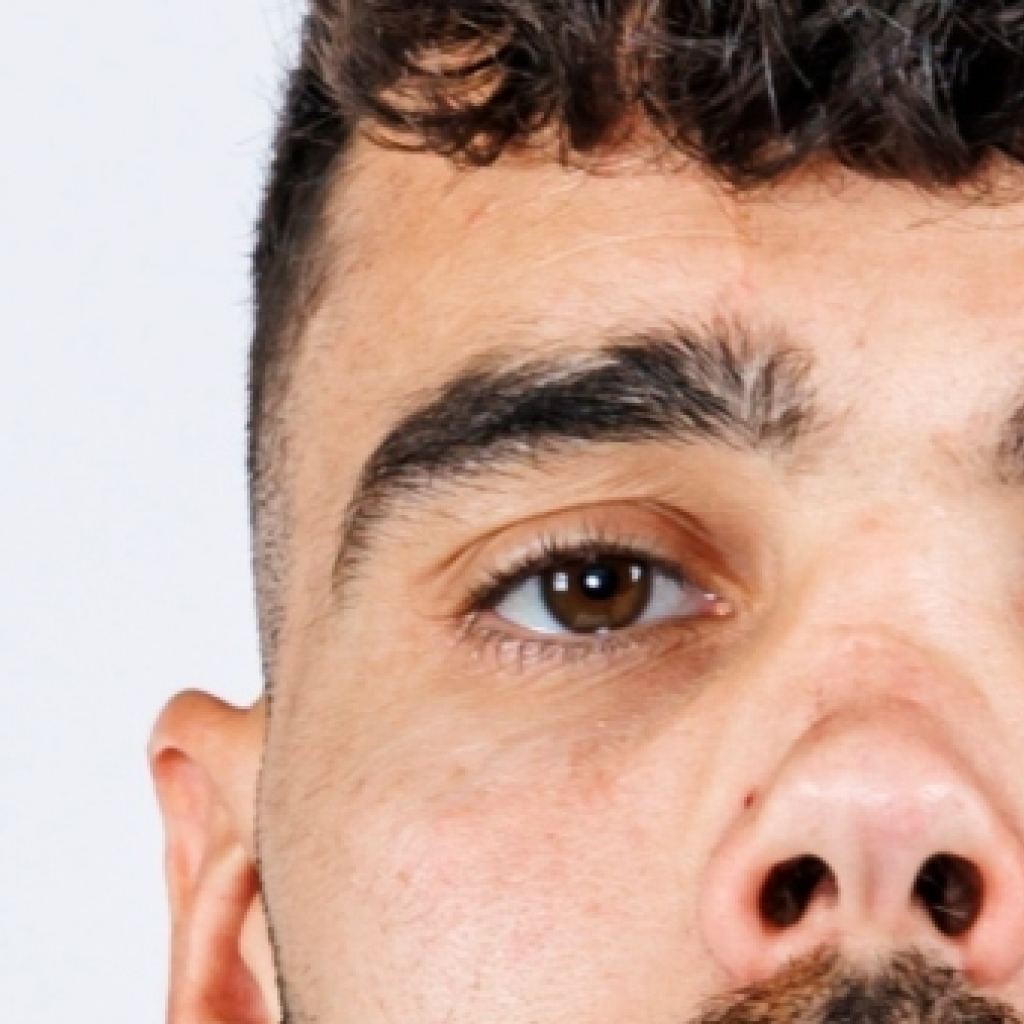iris: (541, 553, 651, 632)
pupil: (584, 562, 620, 600)
sclera: (494, 576, 569, 635), (639, 571, 714, 627)
